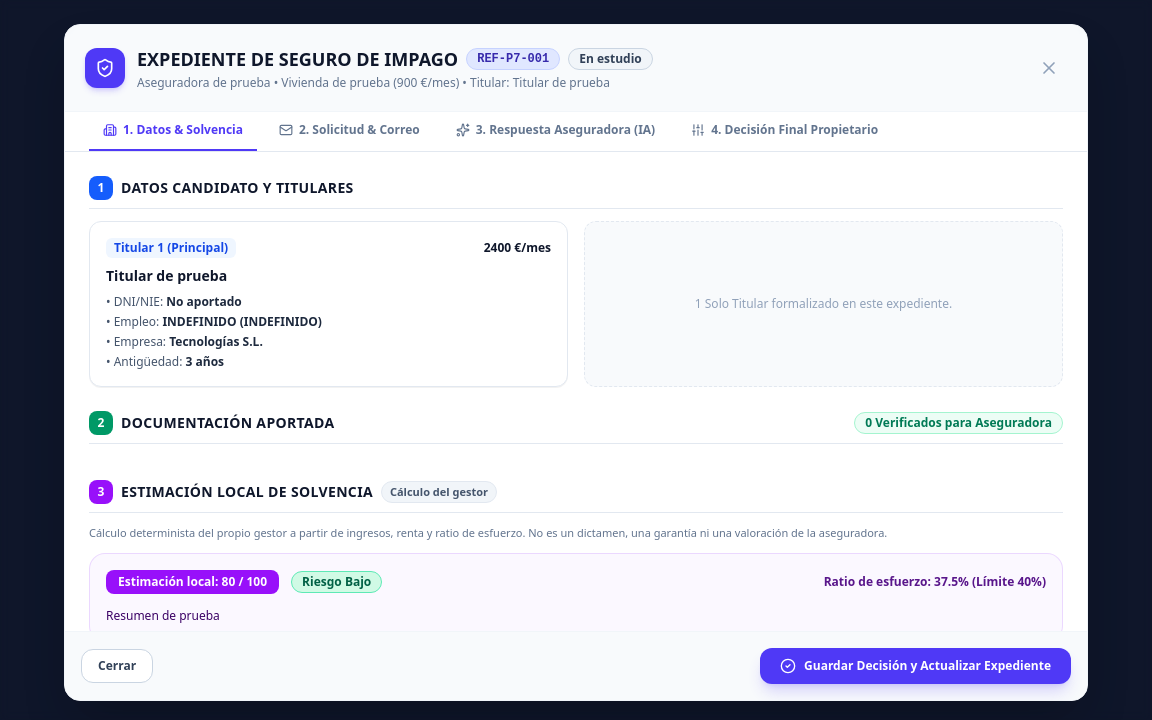
Test: DetalleSolicitudSeguroModal · análisis IA de respuesta recibida › en proveedor/cliente IA no disponible conserva el texto y los datos y deja el expediente pendiente de revisión humana
This screenshot has width=1152, height=720.
Click the button "3. Respuesta Aseguradora (IA)" at coordinates (555, 131), box [442,112,669,151]
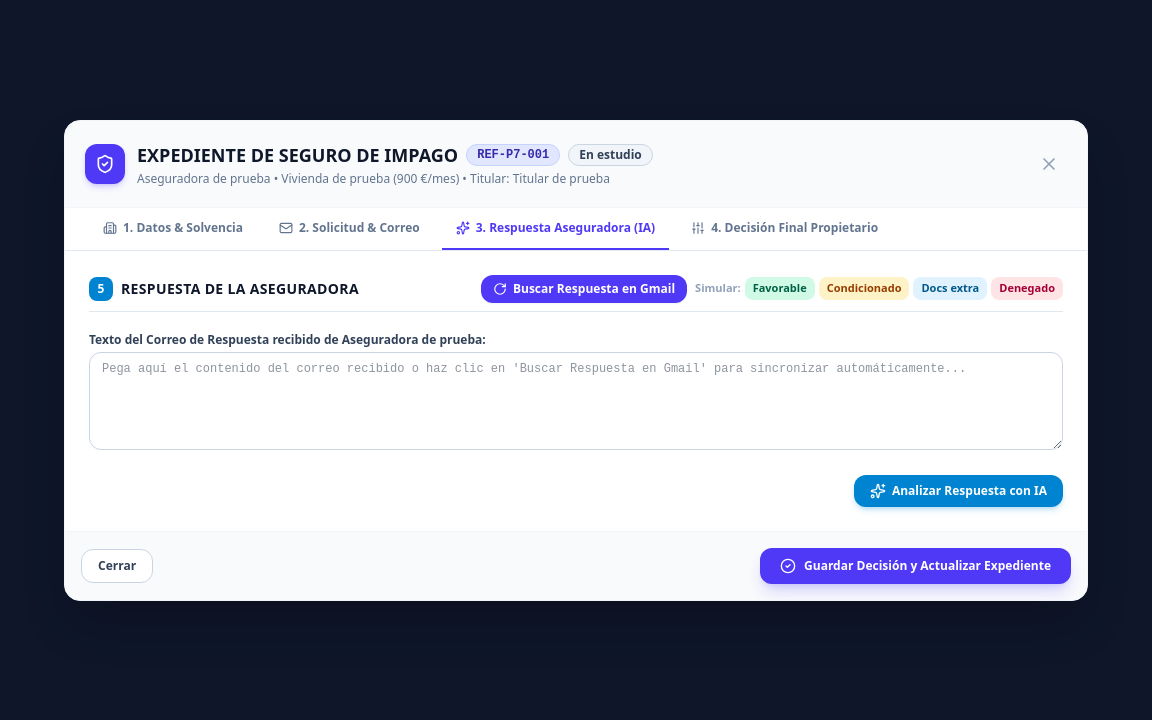
Replace the text in the text box labelled "Texto del Correo de Respuesta recibido" with "Respuesta recibida: revisar condiciones y documentación." at coordinates (576, 400), box [89,352,1063,450]
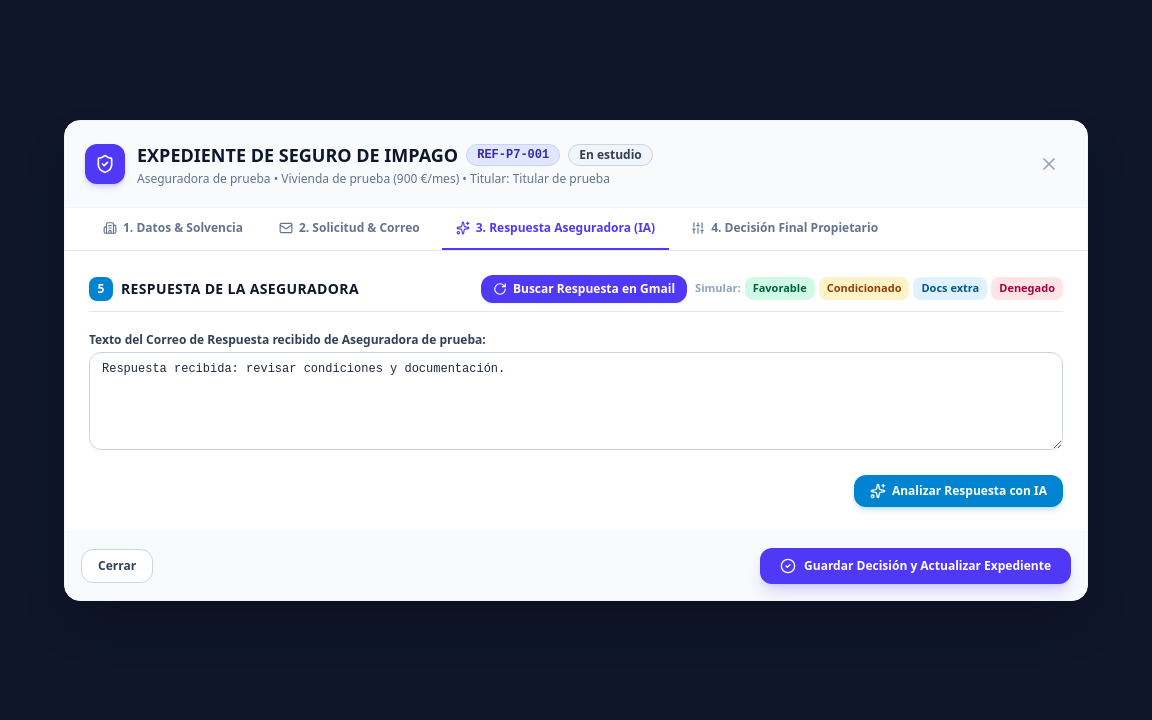
Click the button "Analizar Respuesta con IA" at coordinates (958, 490), box [854,474,1063,506]
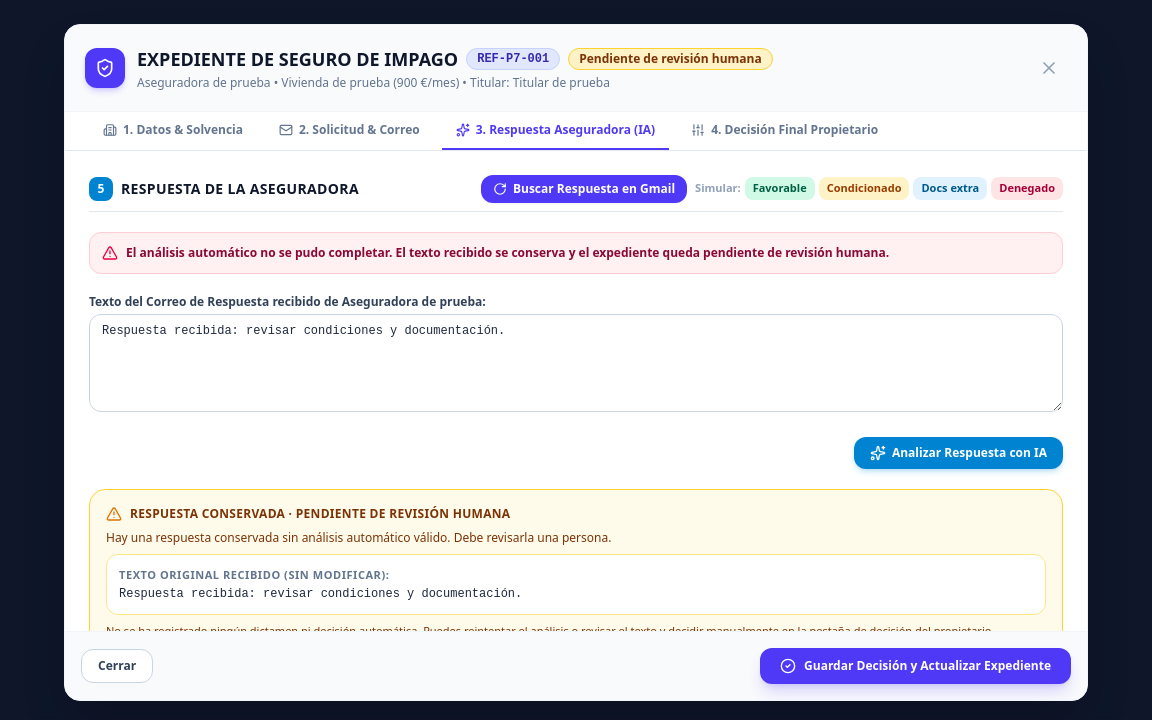
Expected: the 1st message shows "pendiente de revisión humana", [126,244,889,261]
